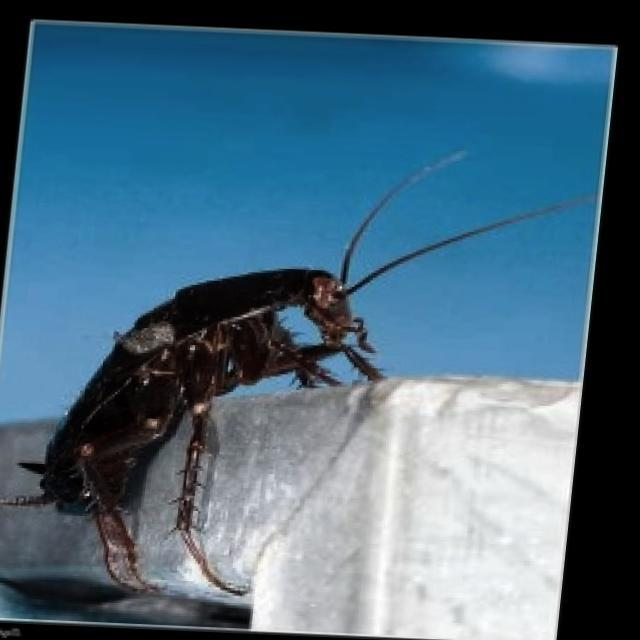cockroach: (6, 145, 598, 602)
